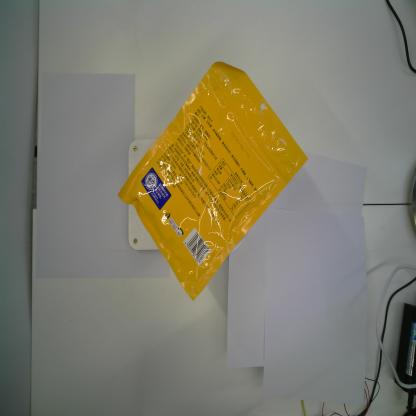Dried Fruit: (116, 60, 308, 302)
